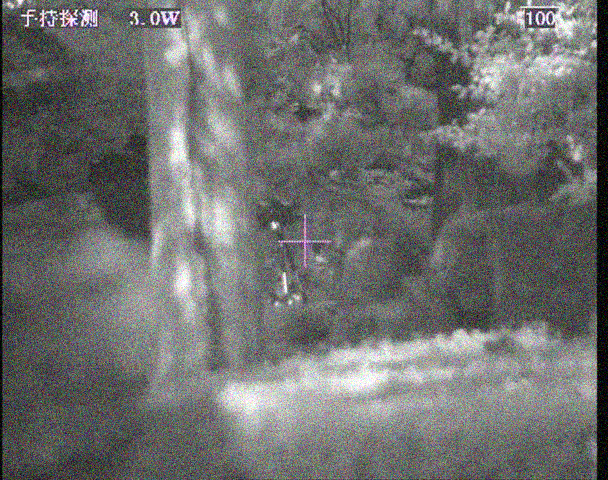my: (268, 220, 279, 231)
